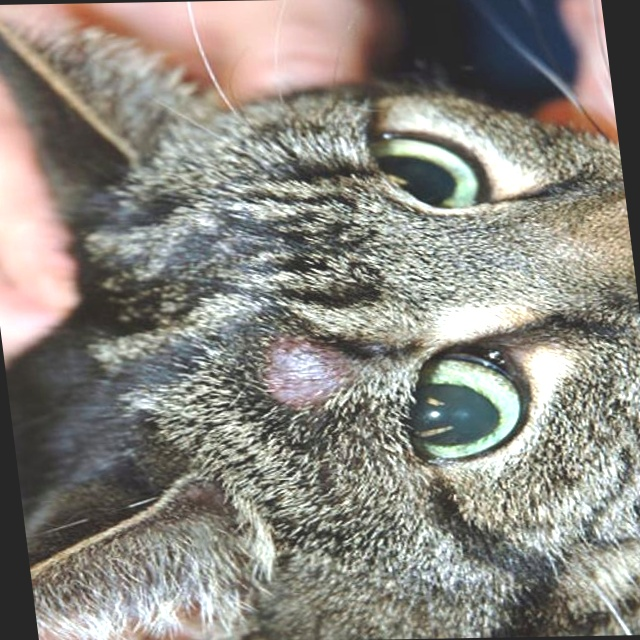lump_and_bump: (258, 338, 354, 408)
